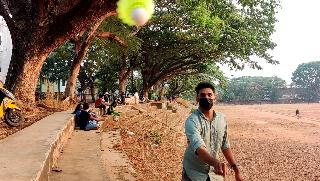shuttlecock: (115, 0, 155, 24)
